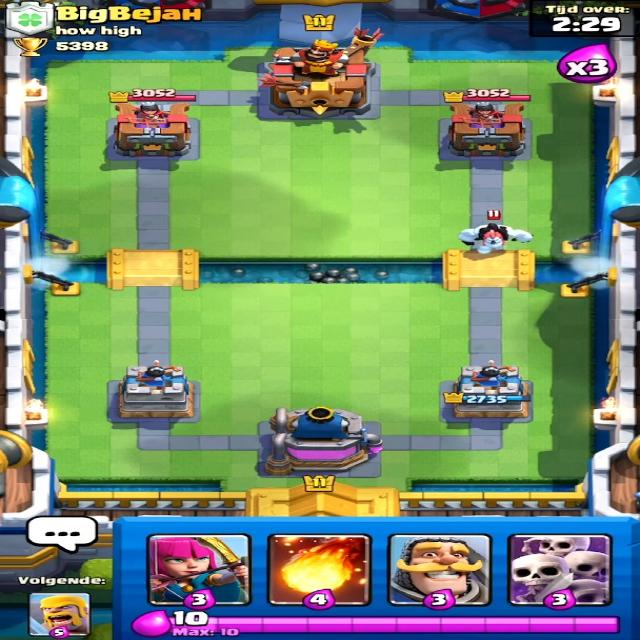Enemy_Ice_Golem_Troop: (446, 223, 540, 258)
Fireball_Card: (269, 533, 372, 606)
